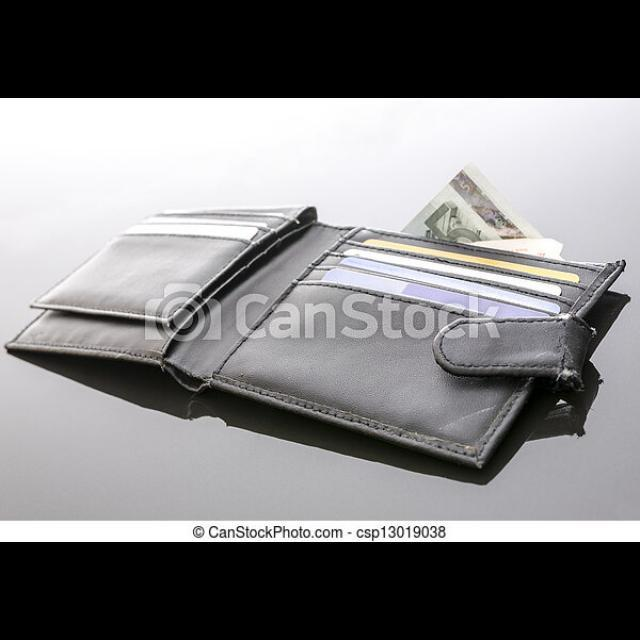wallet: (28, 180, 640, 494)
